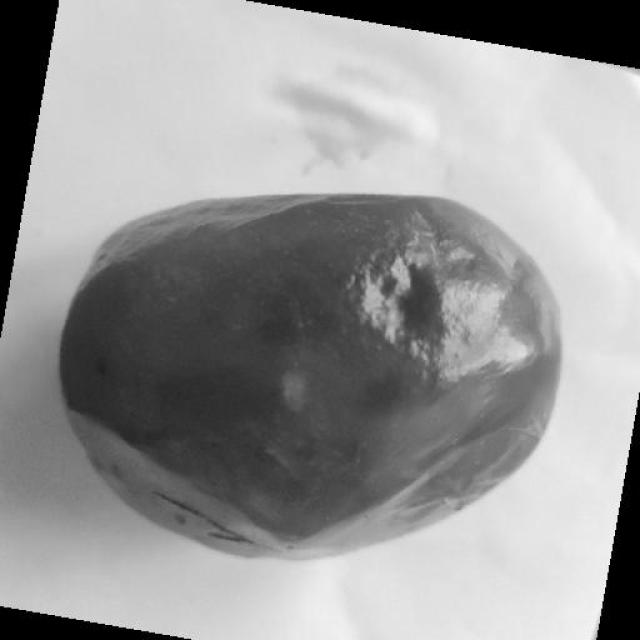Stale_tomato: (89, 175, 574, 560)
